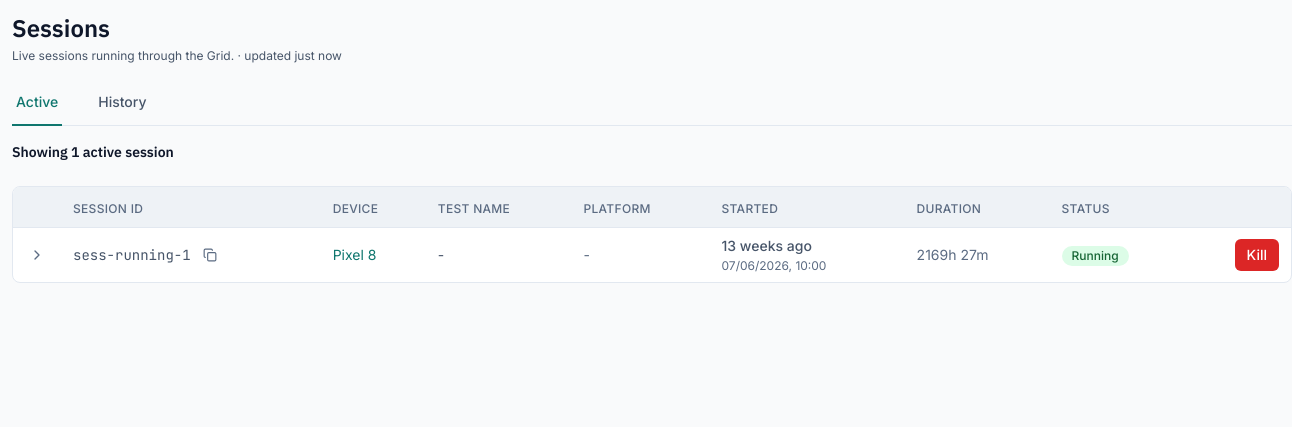
Test case: Sessions › expands a row to show capabilities
Click the button named "Expand capabilities" at [37, 254], box top-left (25, 242), bottom-right (49, 266)
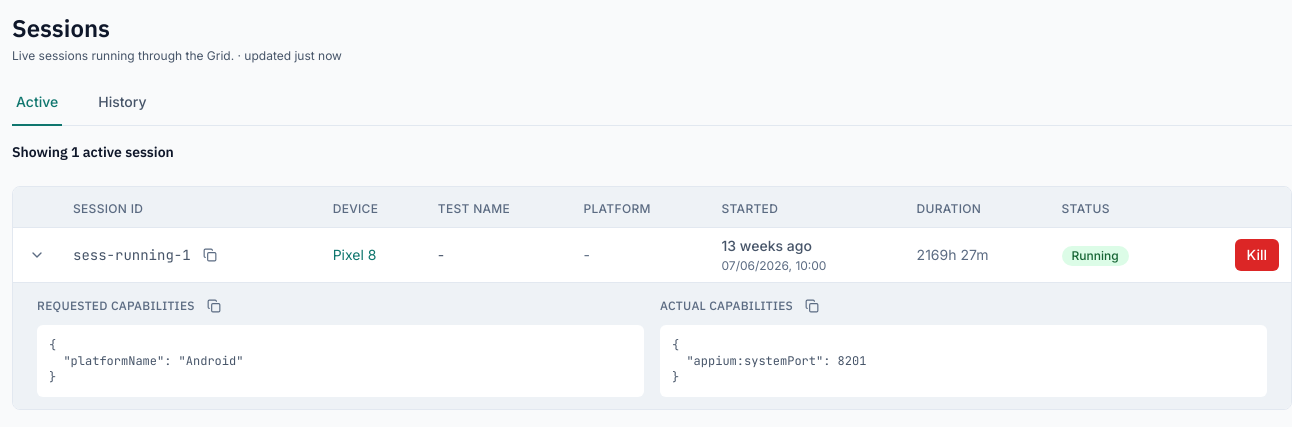
Expected: the heading "Requested capabilities" is shown, top-left (37, 298), bottom-right (195, 314)
Expected: the text "{ \"appium:systemPort\": 8201 }" is shown, top-left (660, 325), bottom-right (1267, 397)
